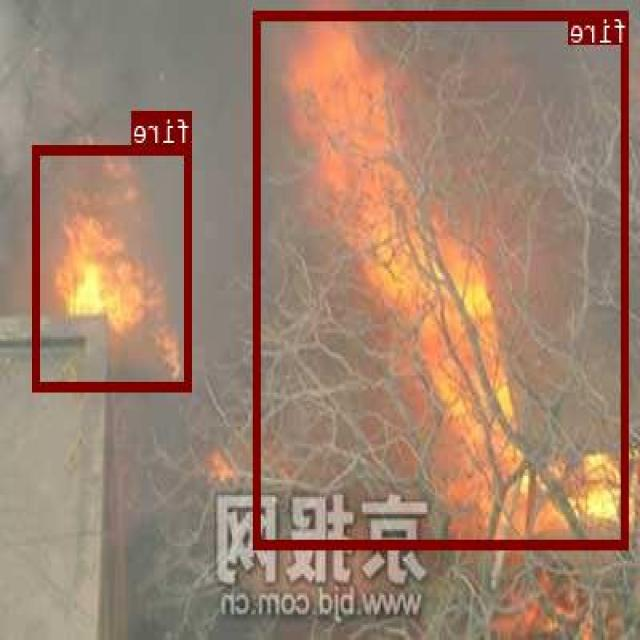fire: (256, 10, 630, 547), (34, 144, 193, 390)
